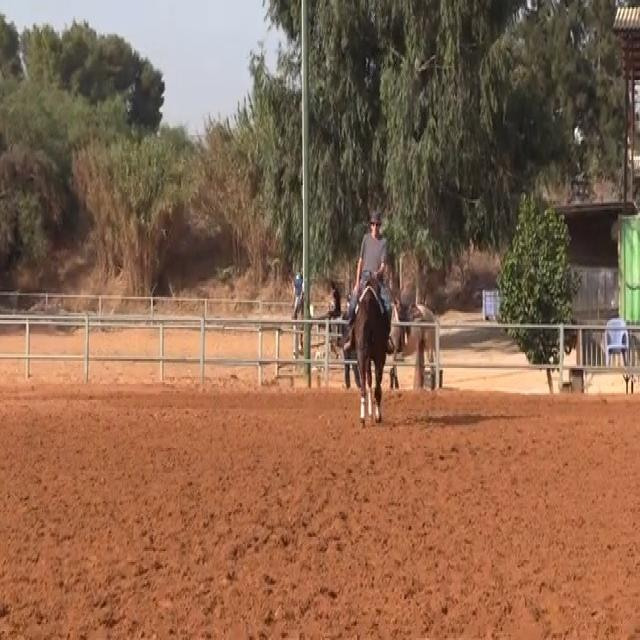horse: (349, 274, 392, 428)
